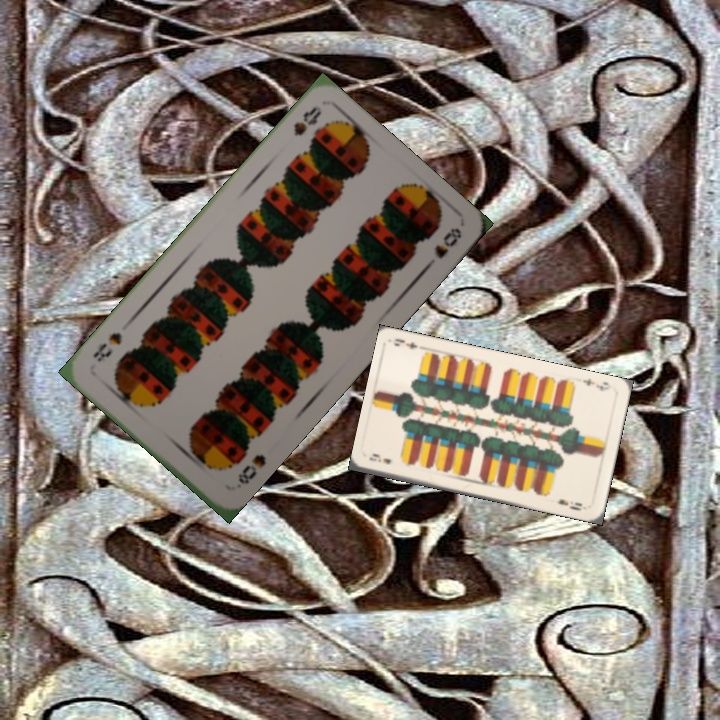E9: (579, 374, 614, 394), (365, 450, 395, 467)
S8: (234, 450, 269, 487), (289, 102, 324, 139)
